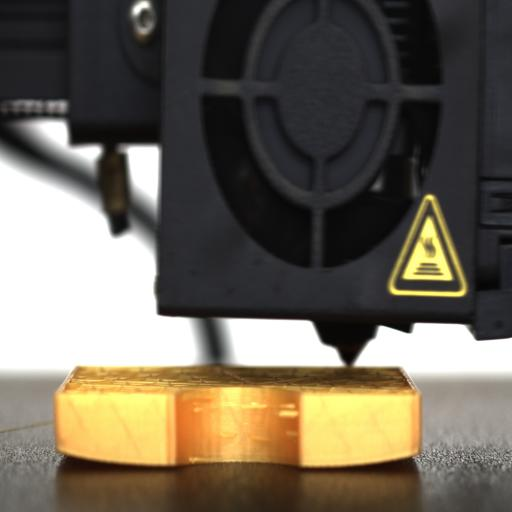warp: (298, 448, 423, 473)
